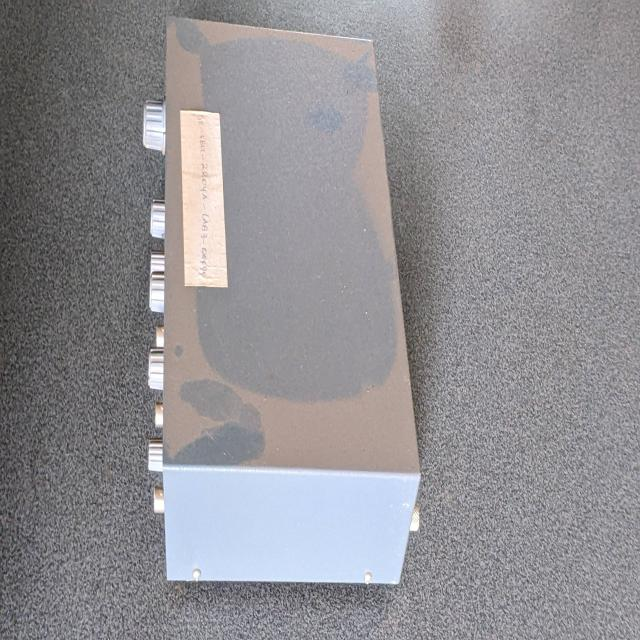A 200KHZ Function Generator: (138, 4, 428, 596)
